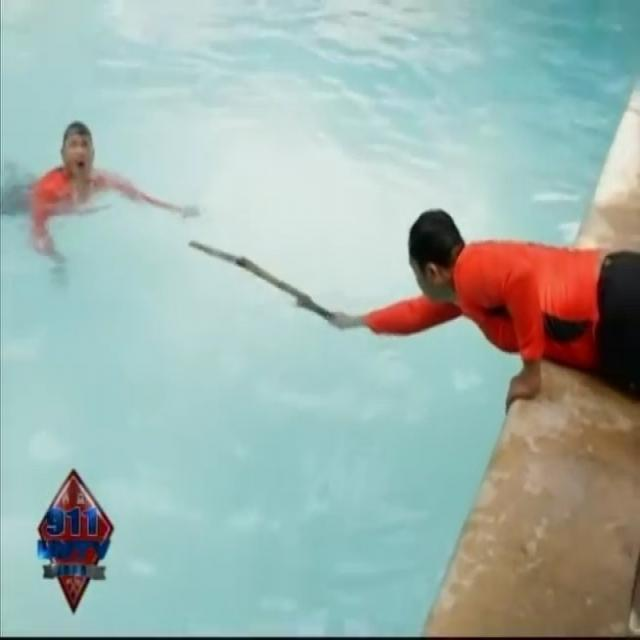drowning: (2, 70, 138, 299)
out of water: (343, 185, 640, 414)
